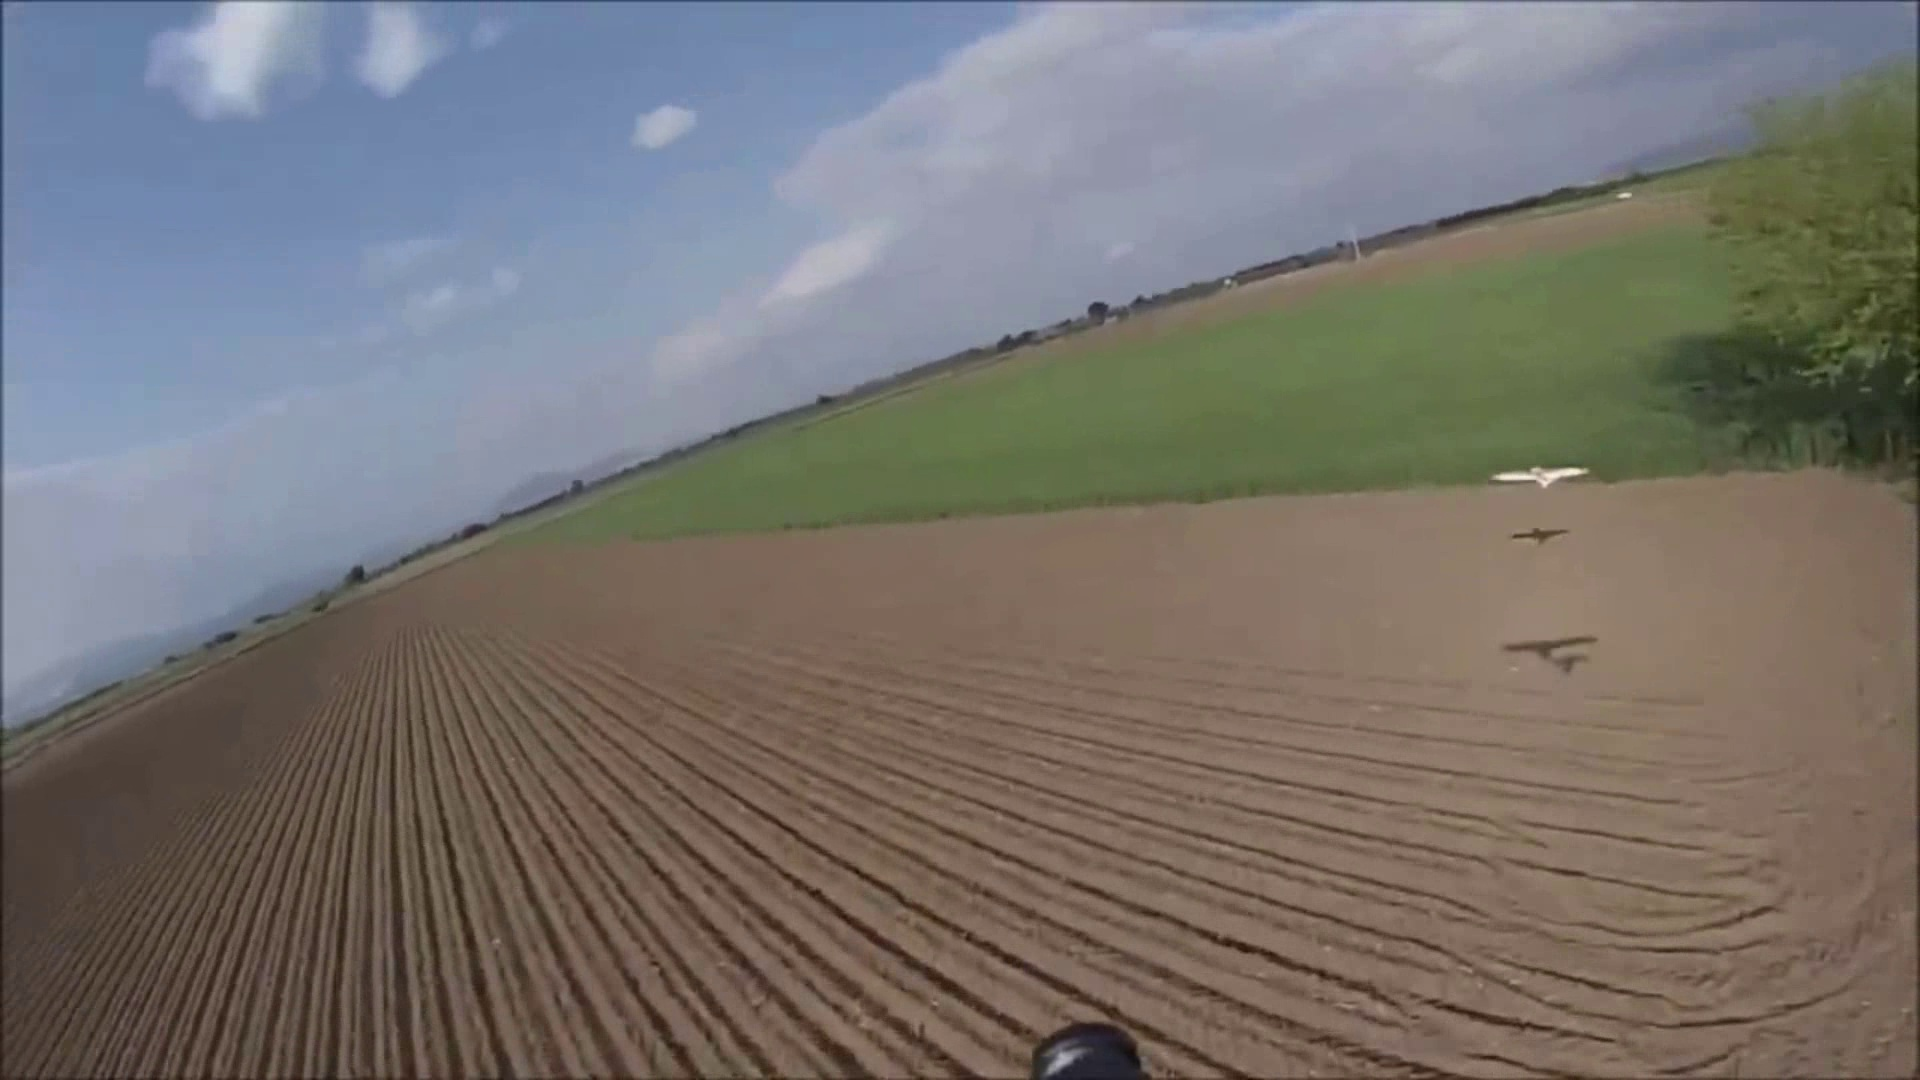airplane: (1498, 633, 1597, 671)
